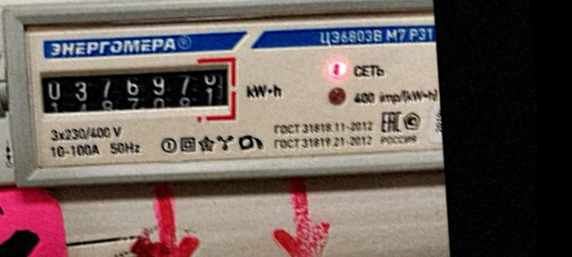0: (45, 78, 61, 100)
1: (203, 85, 215, 106)
3: (73, 80, 89, 102)
6: (124, 72, 141, 96)
7: (98, 75, 115, 100), (176, 72, 193, 96)
9: (150, 73, 166, 96)
screen: (30, 46, 243, 135)
